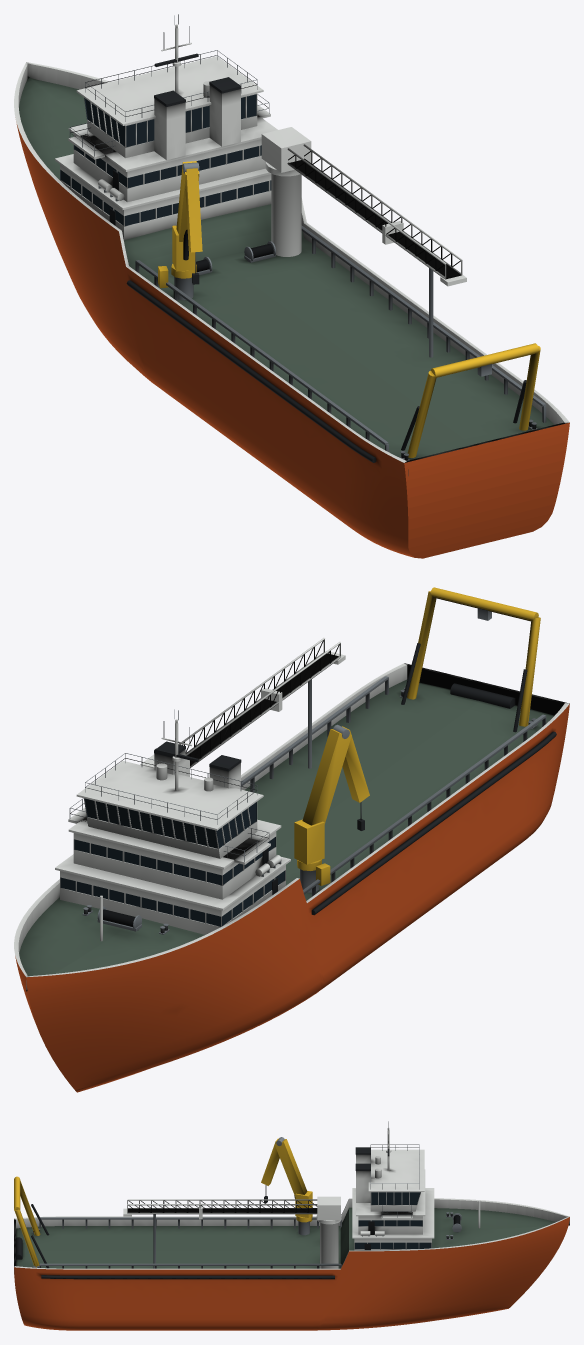
Rendered from offshore_service_LOD0.glb.
3 renders of one model, top to bottom at view 1: azimuth 30°, elevation 25°; view 2: azimuth 150°, elevation 25°; view 3: azimuth 270°, elevation 25°, orthographic. The views are drawn at different scales.
Parts seen in each view (by area): view 1: Hull, Deck, Superstructure, Gangway, Machinery, Windows, Crane, Rubber; view 2: Hull, Deck, Superstructure, Crane, Windows, Machinery, Rubber, Gangway; view 3: Hull, Deck, Superstructure, Gangway, Machinery, Crane, Rubber, Windows.
Boxes of the visible parts, bbox=[...] form: Hull: bbox=[16, 124, 569, 558]; Deck: bbox=[19, 76, 554, 459]; Superstructure: bbox=[14, 24, 569, 475]; Gangway: bbox=[261, 127, 466, 286]; Machinery: bbox=[69, 14, 546, 460]; Windows: bbox=[60, 94, 271, 225]; Crane: bbox=[158, 161, 540, 457]; Rubber: bbox=[109, 26, 526, 462]; Hull: bbox=[15, 704, 569, 1092]; Deck: bbox=[19, 679, 554, 991]; Superstructure: bbox=[14, 663, 569, 989]; Crane: bbox=[294, 587, 540, 885]; Windows: bbox=[60, 798, 285, 926]; Machinery: bbox=[69, 608, 546, 934]; Rubber: bbox=[103, 643, 556, 926]; Gangway: bbox=[140, 638, 345, 776]; Hull: bbox=[14, 1217, 569, 1330]; Deck: bbox=[16, 1207, 569, 1268]; Superstructure: bbox=[14, 1127, 569, 1274]; Gangway: bbox=[123, 1196, 341, 1268]; Machinery: bbox=[32, 1121, 461, 1268]; Crane: bbox=[14, 1138, 312, 1267]; Rubber: bbox=[16, 1134, 460, 1279]; Windows: bbox=[355, 1192, 431, 1248].
Size of the model in its own units: 17.77 by 27.82 by 75.02.
